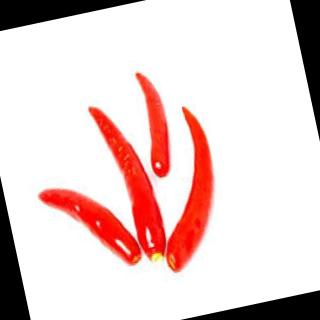Cabai Merah: (134, 101, 236, 273), (91, 96, 174, 261), (37, 170, 146, 283), (133, 68, 186, 188)
